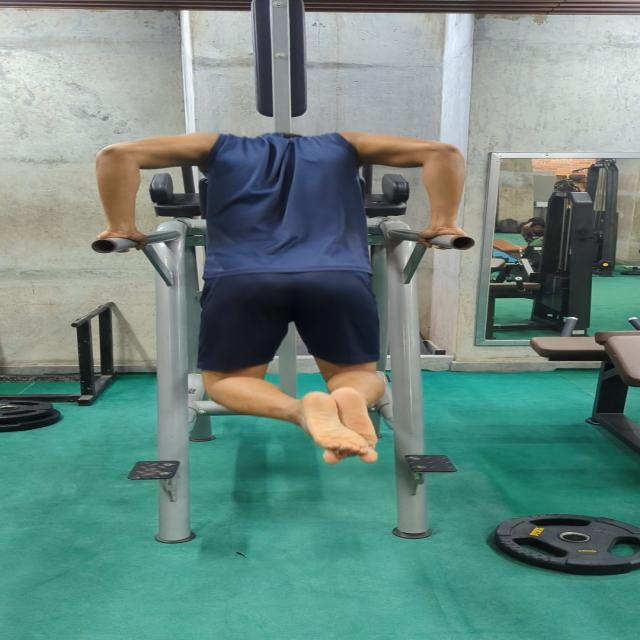Normal_Dips: (89, 117, 477, 475)
